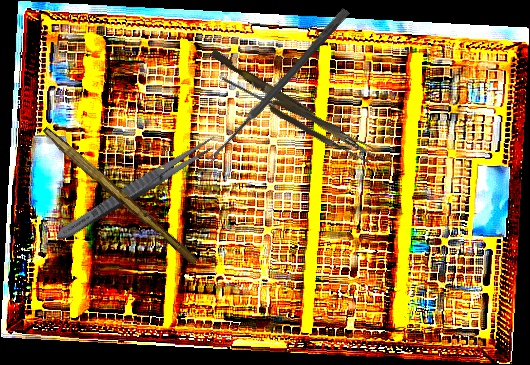Dressing Forceps: (52, 130, 221, 247)
Pusher: (207, 48, 381, 161)
Scalpel Handle: (38, 126, 201, 266)
Surgical Spoon: (206, 6, 350, 166)
Tissue Forceps: (217, 67, 378, 167)
